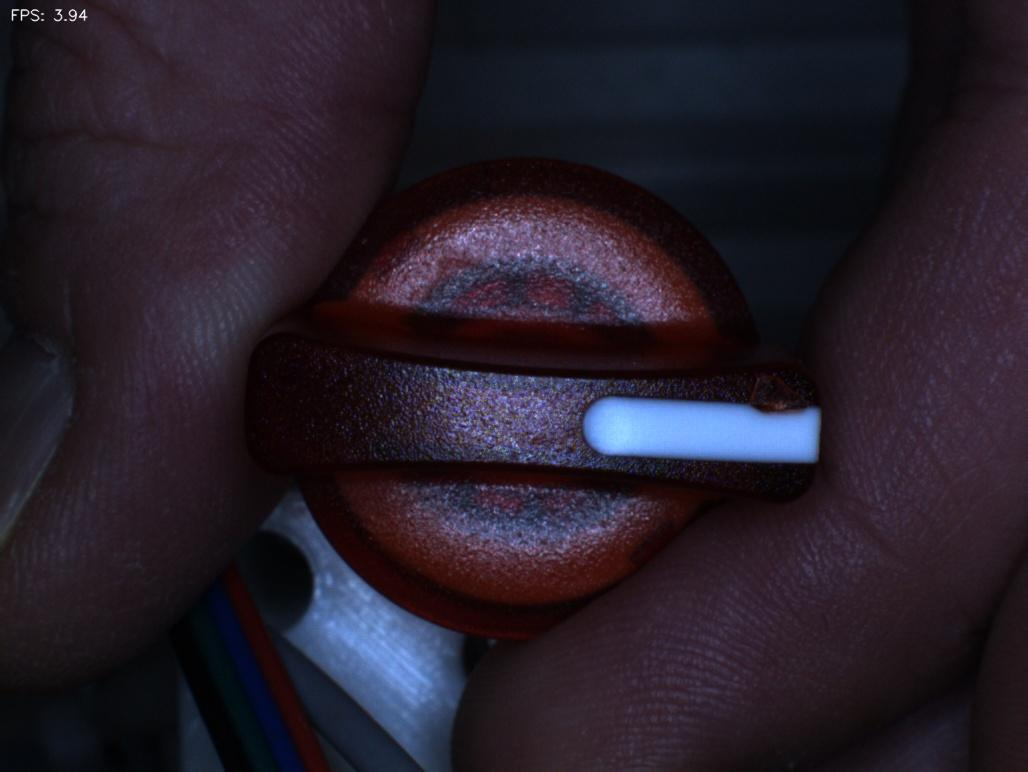Choc: (734, 350, 829, 433)
